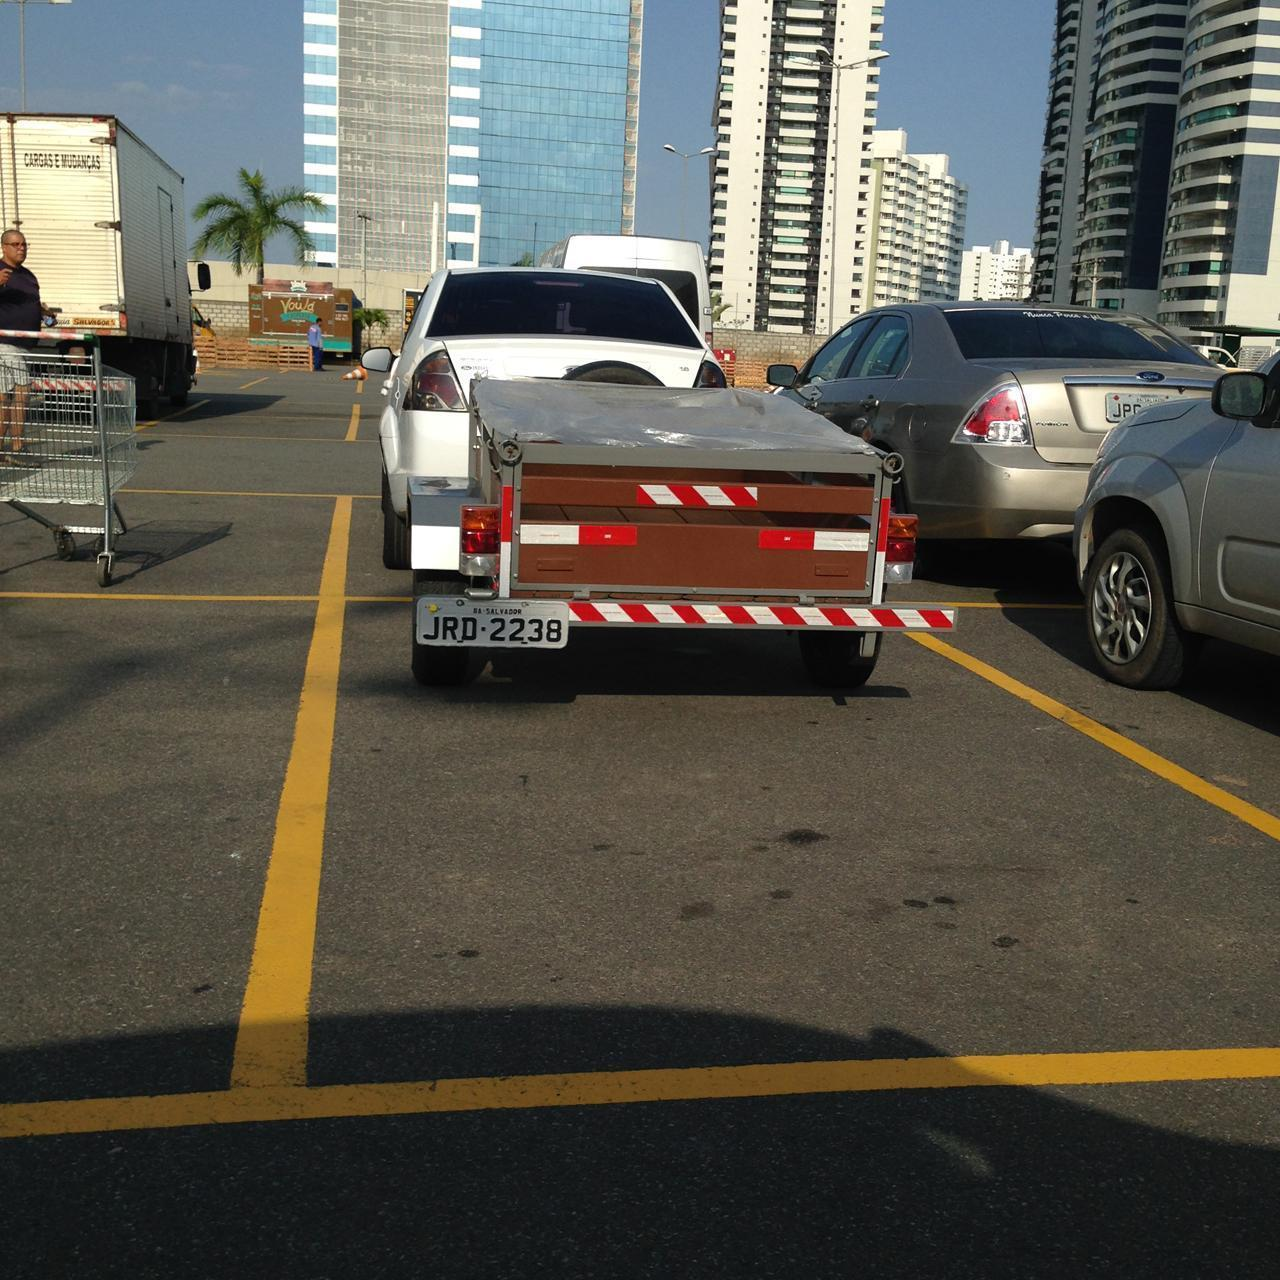placa de veiculo: (394, 582, 582, 676)
